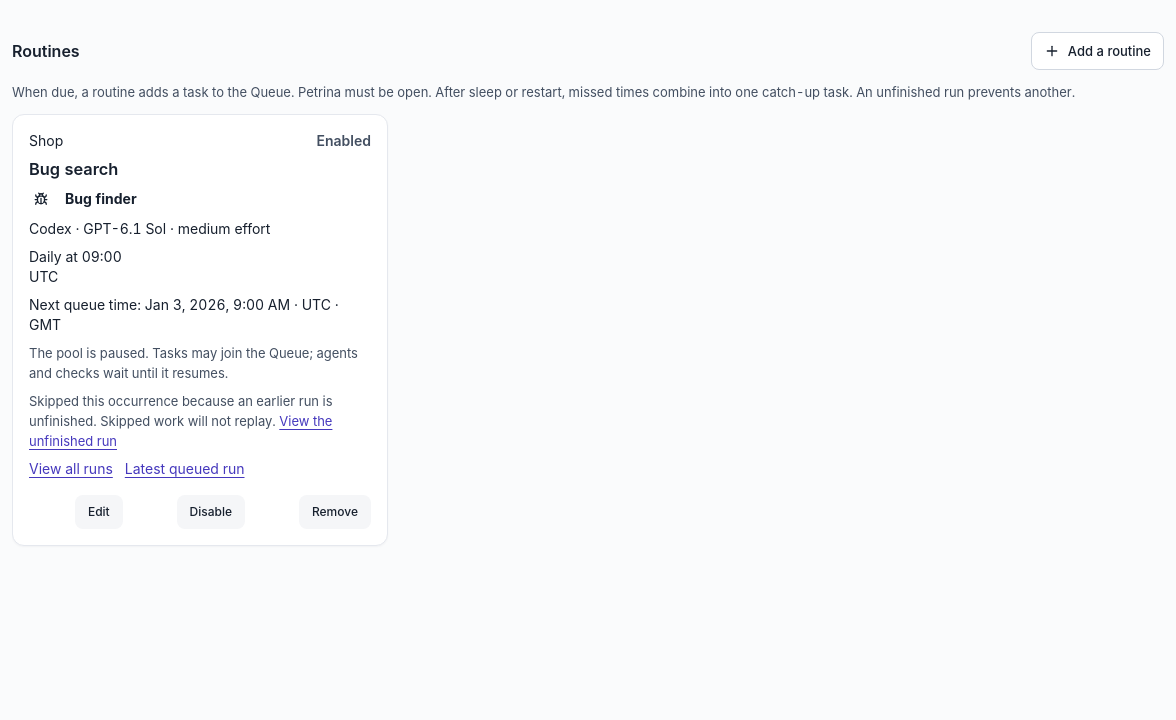
it: Library routines › keeps scheduling explanations separate from task links and respects product and connection state
Expected: the link does not show "Skipped"
Click the link "Latest queued run": [185, 469] box x1=125 y1=459 x2=244 y2=479
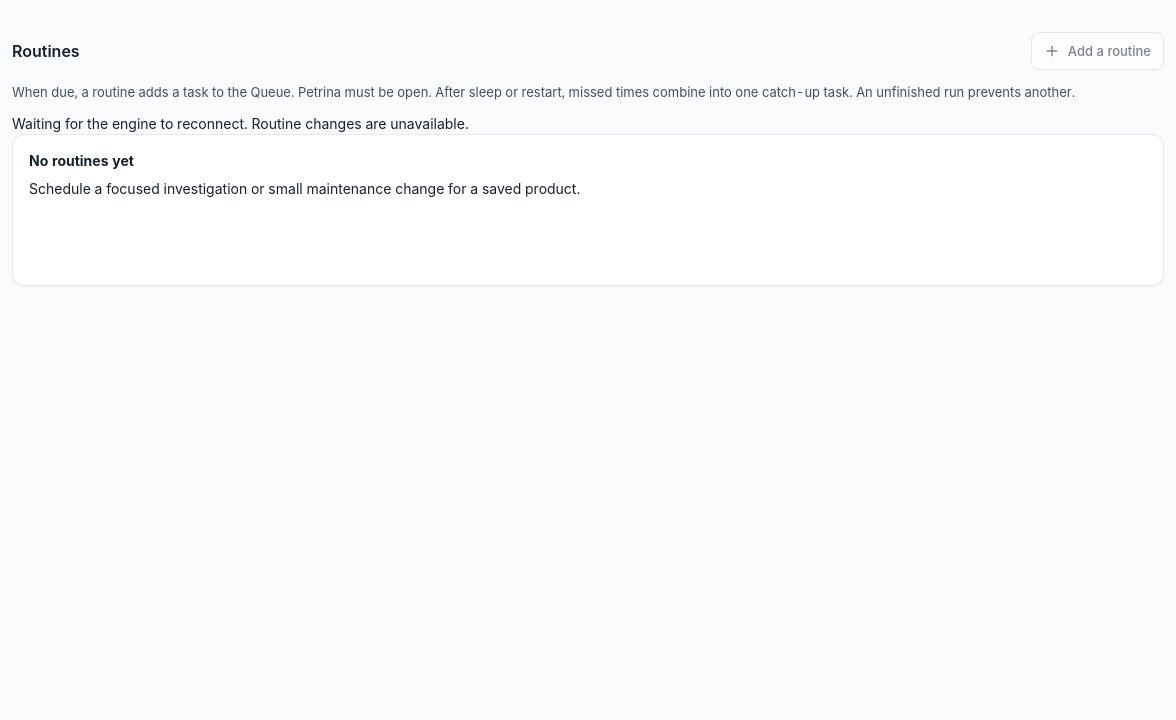
Expected: the text "No routines yet" is shown, x1=29 y1=152 x2=134 y2=169
Expected: the button "Add a routine" is disabled, x1=1031 y1=32 x2=1164 y2=70
Expected: the text "reconnect" is shown, x1=12 y1=115 x2=469 y2=132
